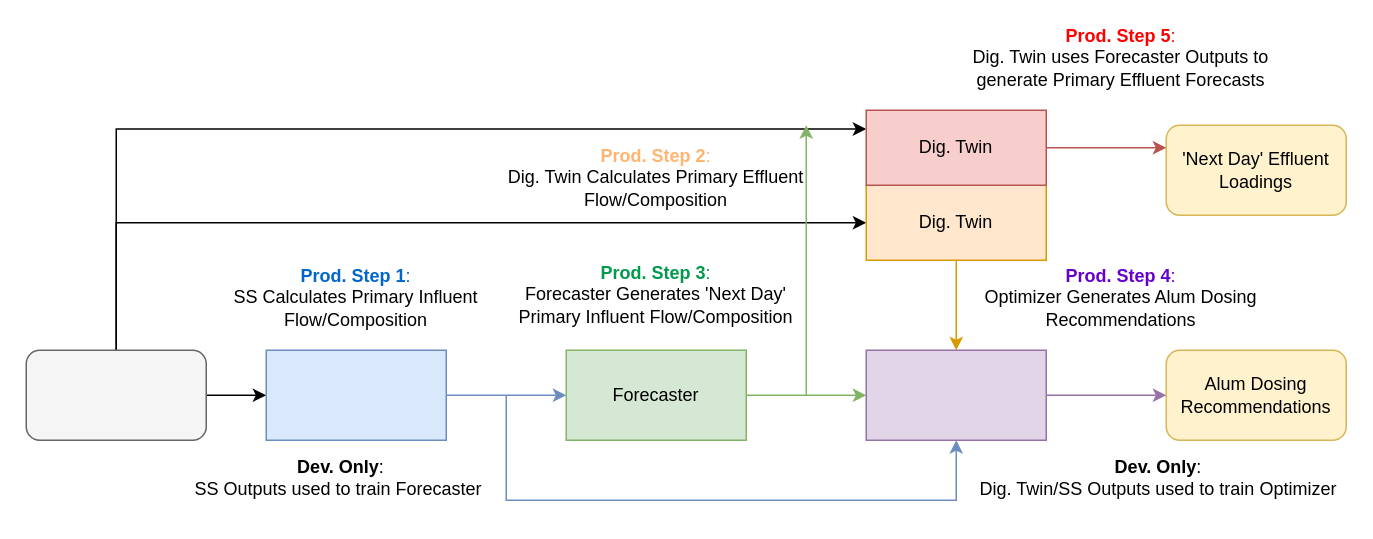
The diagram is 1373 pixels wide and 539 high, and some of its shapes have lost their labels. The shapes that lost their labels are listed below. From the top down, each one's centre as x and y in pixels, then its label:
At (115,394): "Data Ingestion Data Cleaning Autocalibration".
At (355,394): "SS".
At (955,394): "Optimizer".
